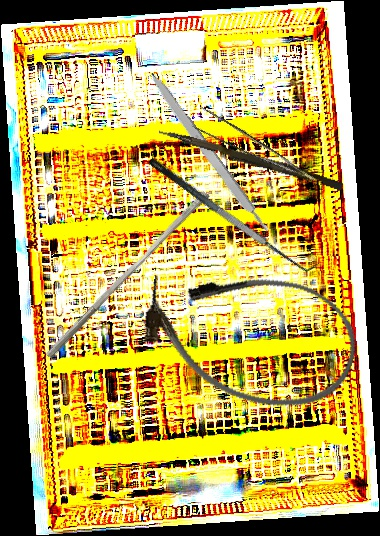Cannula: (129, 245, 370, 426)
Pusher: (44, 184, 211, 366), (156, 128, 345, 191)
Scalpel Handle: (145, 70, 271, 237)
Spatula Surgical: (146, 143, 321, 284)
Tissue Forceps: (186, 101, 316, 200)
